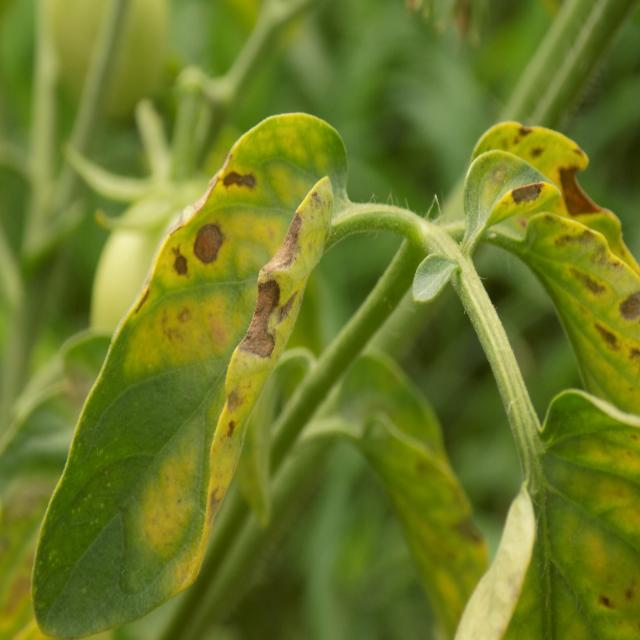tomato_early blight: (30, 108, 352, 640)
